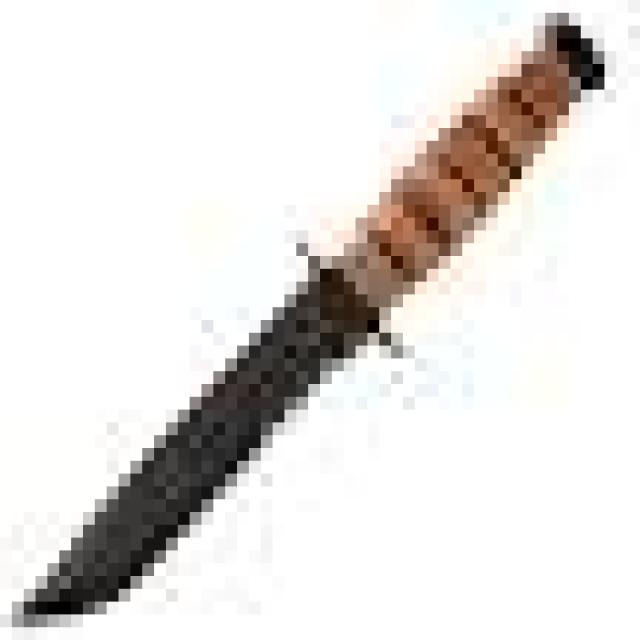knife: (6, 1, 611, 640)
